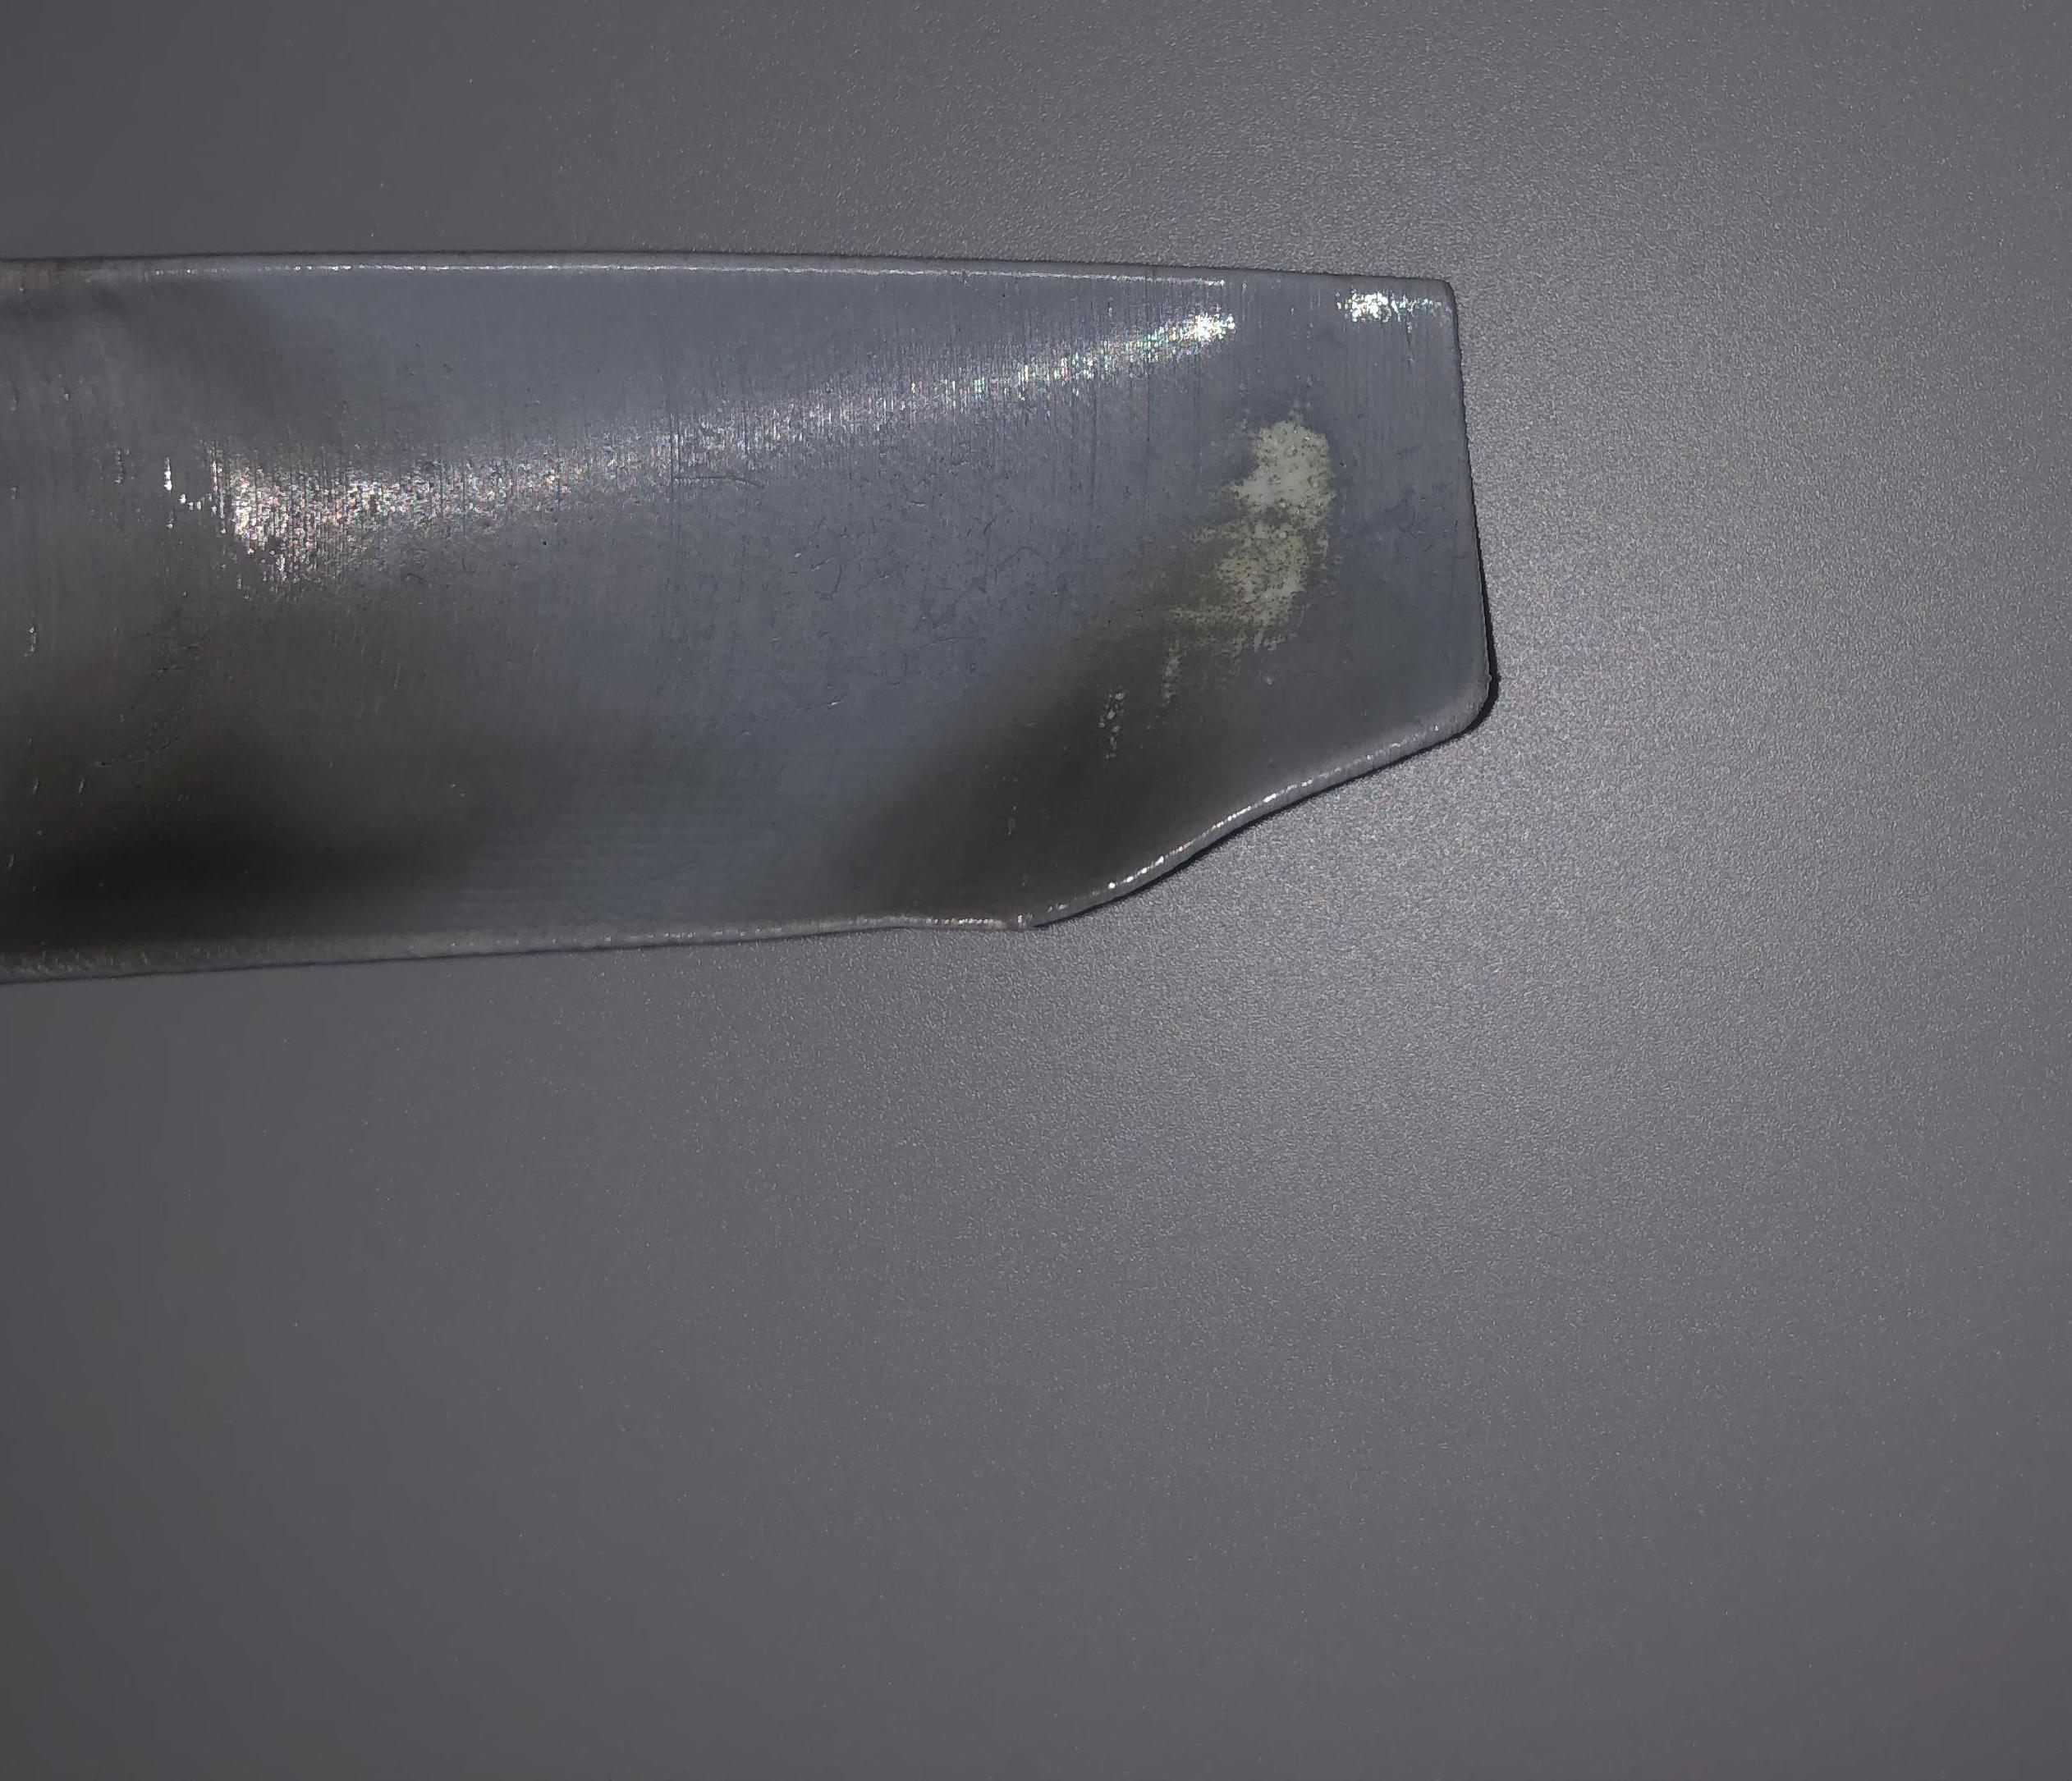ablation: (28, 629, 463, 909), (1006, 636, 1207, 876)
